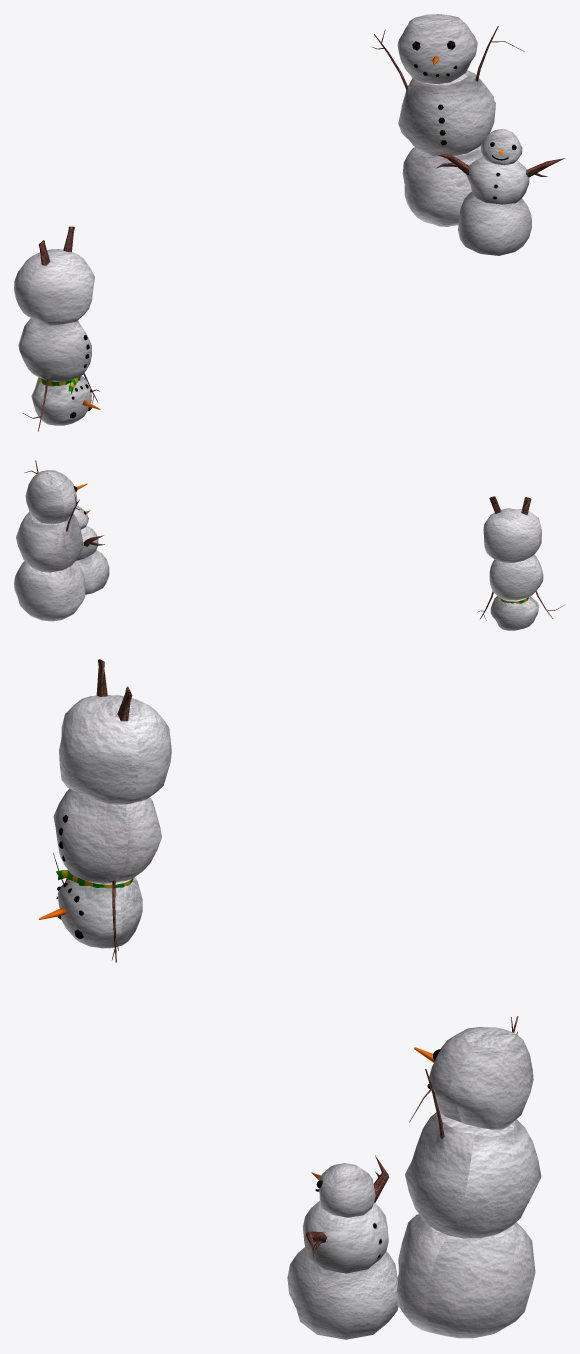
File: SNOW MAN .fbx
The picture shows the model from 3 angles, top to bottom: view 1: azimuth 30°, elevation 25°; view 2: azimuth 150°, elevation 25°; view 3: azimuth 270°, elevation 25°; orthographic projection. The views are drawn at different scales.
Visible parts, largest first — view 1: polySurface281, polySurface244, polySurface261, polySurface279, polySurface258, polySurface289, polySurface294, polySurface399, polySurface286; view 2: polySurface279, polySurface281, polySurface244, polySurface261, polySurface258, polySurface399, polySurface289, polySurface294, polySurface286; view 3: polySurface279, polySurface281, polySurface244, polySurface261, polySurface258, polySurface289, polySurface294, polySurface399, polySurface286.
Part boxes in pixels (x1,y1,x2,y2): polySurface281: (371,26,524,156); polySurface244: (14,226,94,325); polySurface261: (397,14,477,83); polySurface279: (402,145,482,226); polySurface258: (18,318,99,431); polySurface289: (458,191,531,255); polySurface294: (436,153,565,204); polySurface399: (31,375,100,425); polySurface286: (480,129,522,165); polySurface279: (14,561,85,621); polySurface281: (16,460,83,572); polySurface244: (483,496,541,562); polySurface261: (25,470,87,524); polySurface258: (477,554,565,620); polySurface399: (490,596,538,630); polySurface289: (76,550,109,594); polySurface294: (76,525,104,560); polySurface286: (73,506,90,529); polySurface279: (397,1214,535,1338); polySurface281: (405,1016,541,1238); polySurface244: (59,659,171,804); polySurface261: (414,1027,533,1129); polySurface258: (53,788,161,962); polySurface289: (287,1247,398,1339); polySurface294: (302,1155,388,1273); polySurface399: (38,877,142,948); polySurface286: (311,1163,375,1217).
Size of the model in its own units: 19.82 by 6.08 by 9.42.
1 material, 1 textured.
